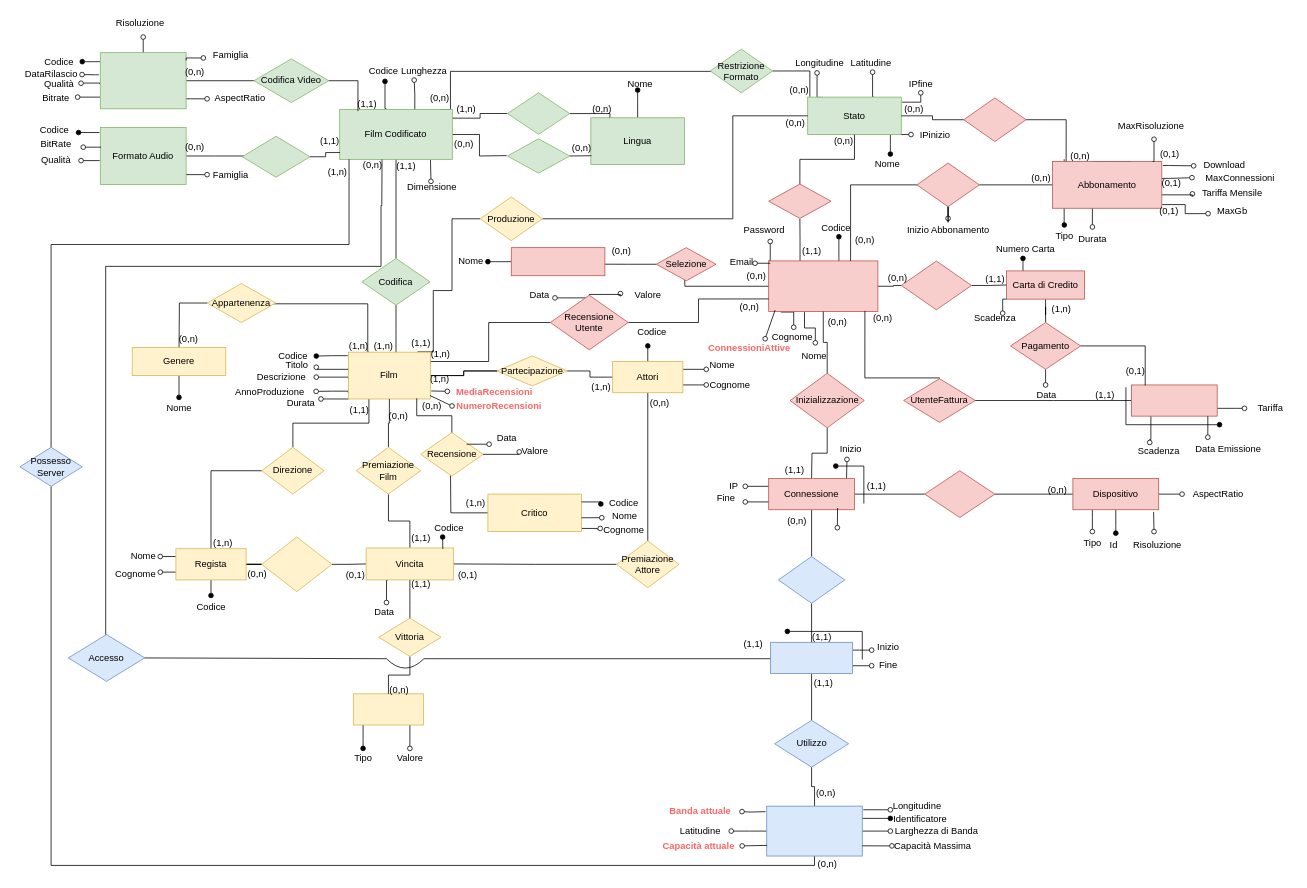
Image size: 1307x888. Some labels were removed from this diagram. Each missing label, with the centre of its shape:
"Acquisto" goes at point (947, 184).
"Audio" goes at point (538, 113).
"Codifica audio" goes at point (275, 156).
"Fattura" goes at point (1174, 400).
"Formato Video" goes at point (143, 80).
"Possesso" goes at point (936, 285).
"Preferenza" goes at point (558, 261).
"Premiazione Regista" goes at point (296, 564).
"Premio" goes at point (388, 709).
"Residenza" goes at point (799, 200).
"Restrizione Abbonamento" goes at point (994, 119).
"Richiesta" goes at point (811, 579).
"Server" goes at point (814, 830).
"Sottotitolo" goes at point (538, 155).
"Utente" goes at point (823, 286).
"UtilizzoD" goes at point (959, 494).
"Visualizzazione" goes at point (811, 658).
